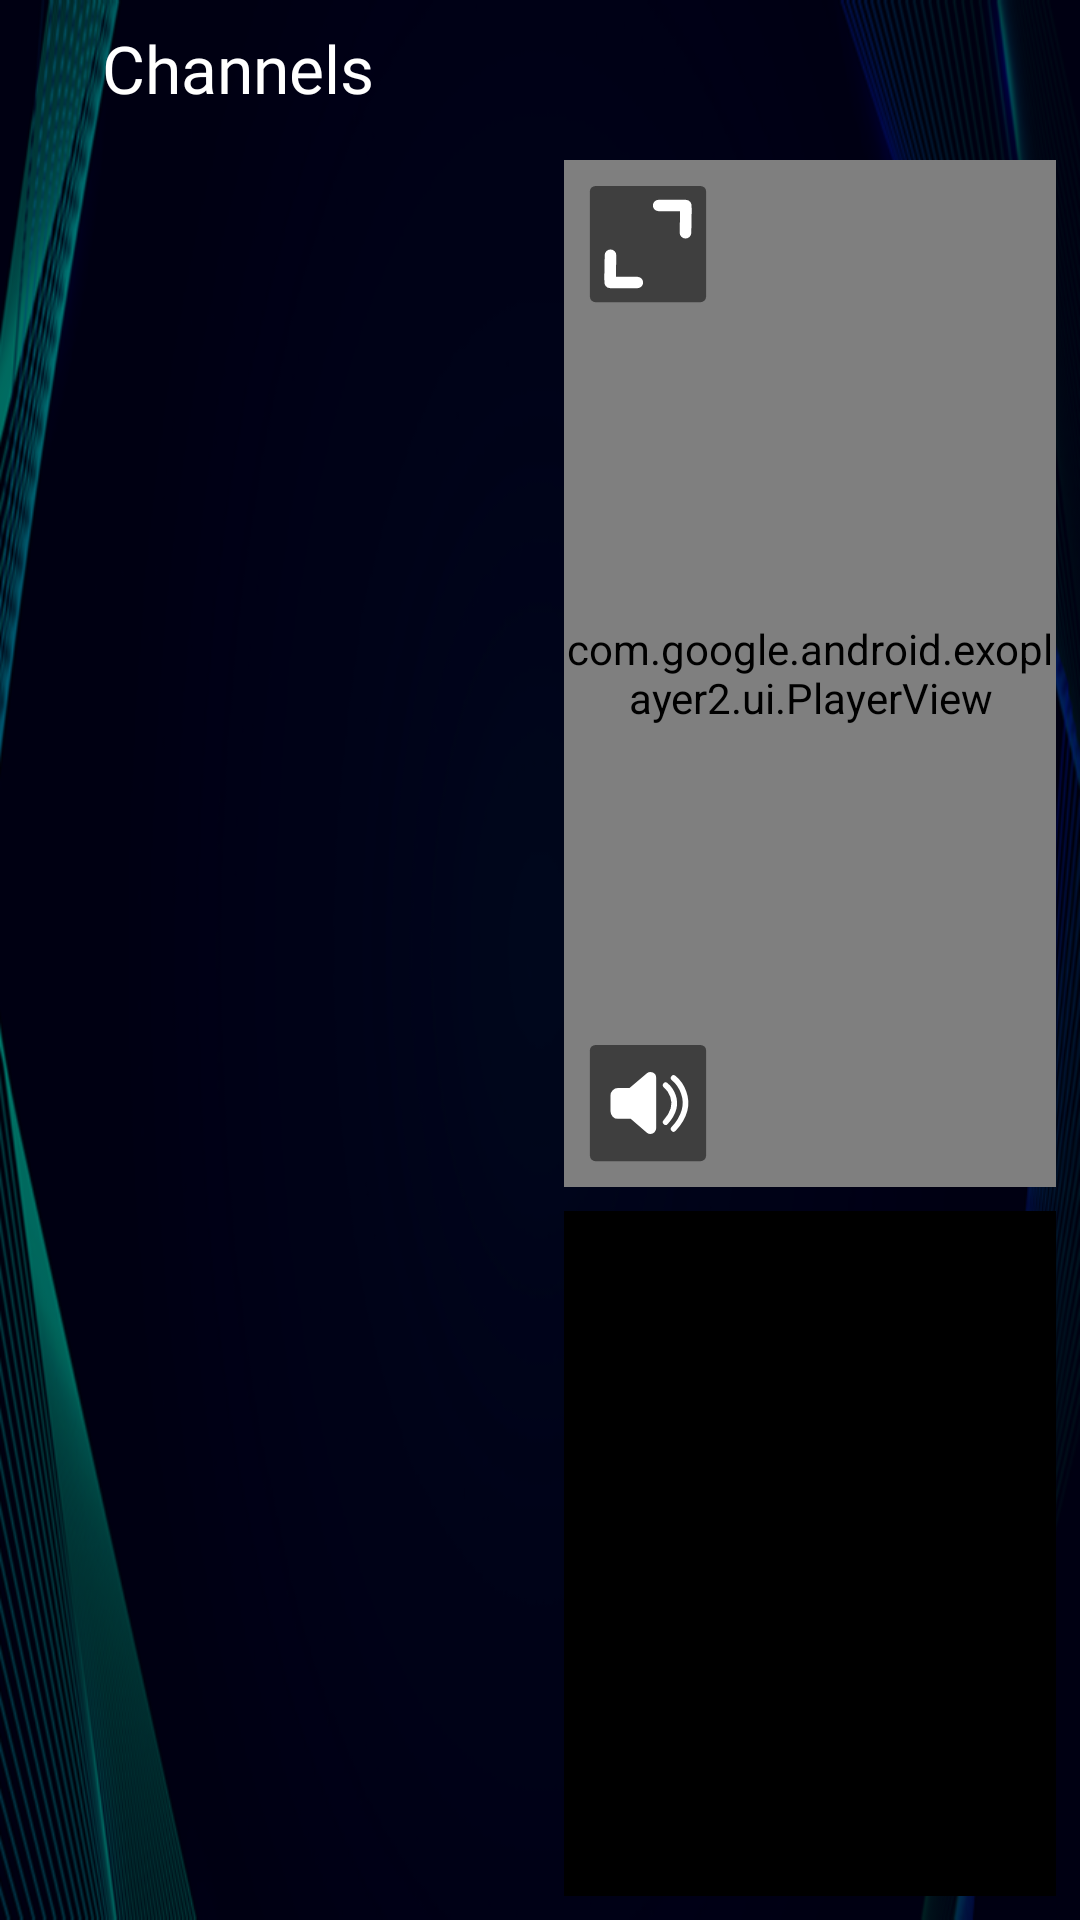

Screen size 1080px×1920px. Icon name, then its center in pixels as (x,y):
full screen: (648,244)
